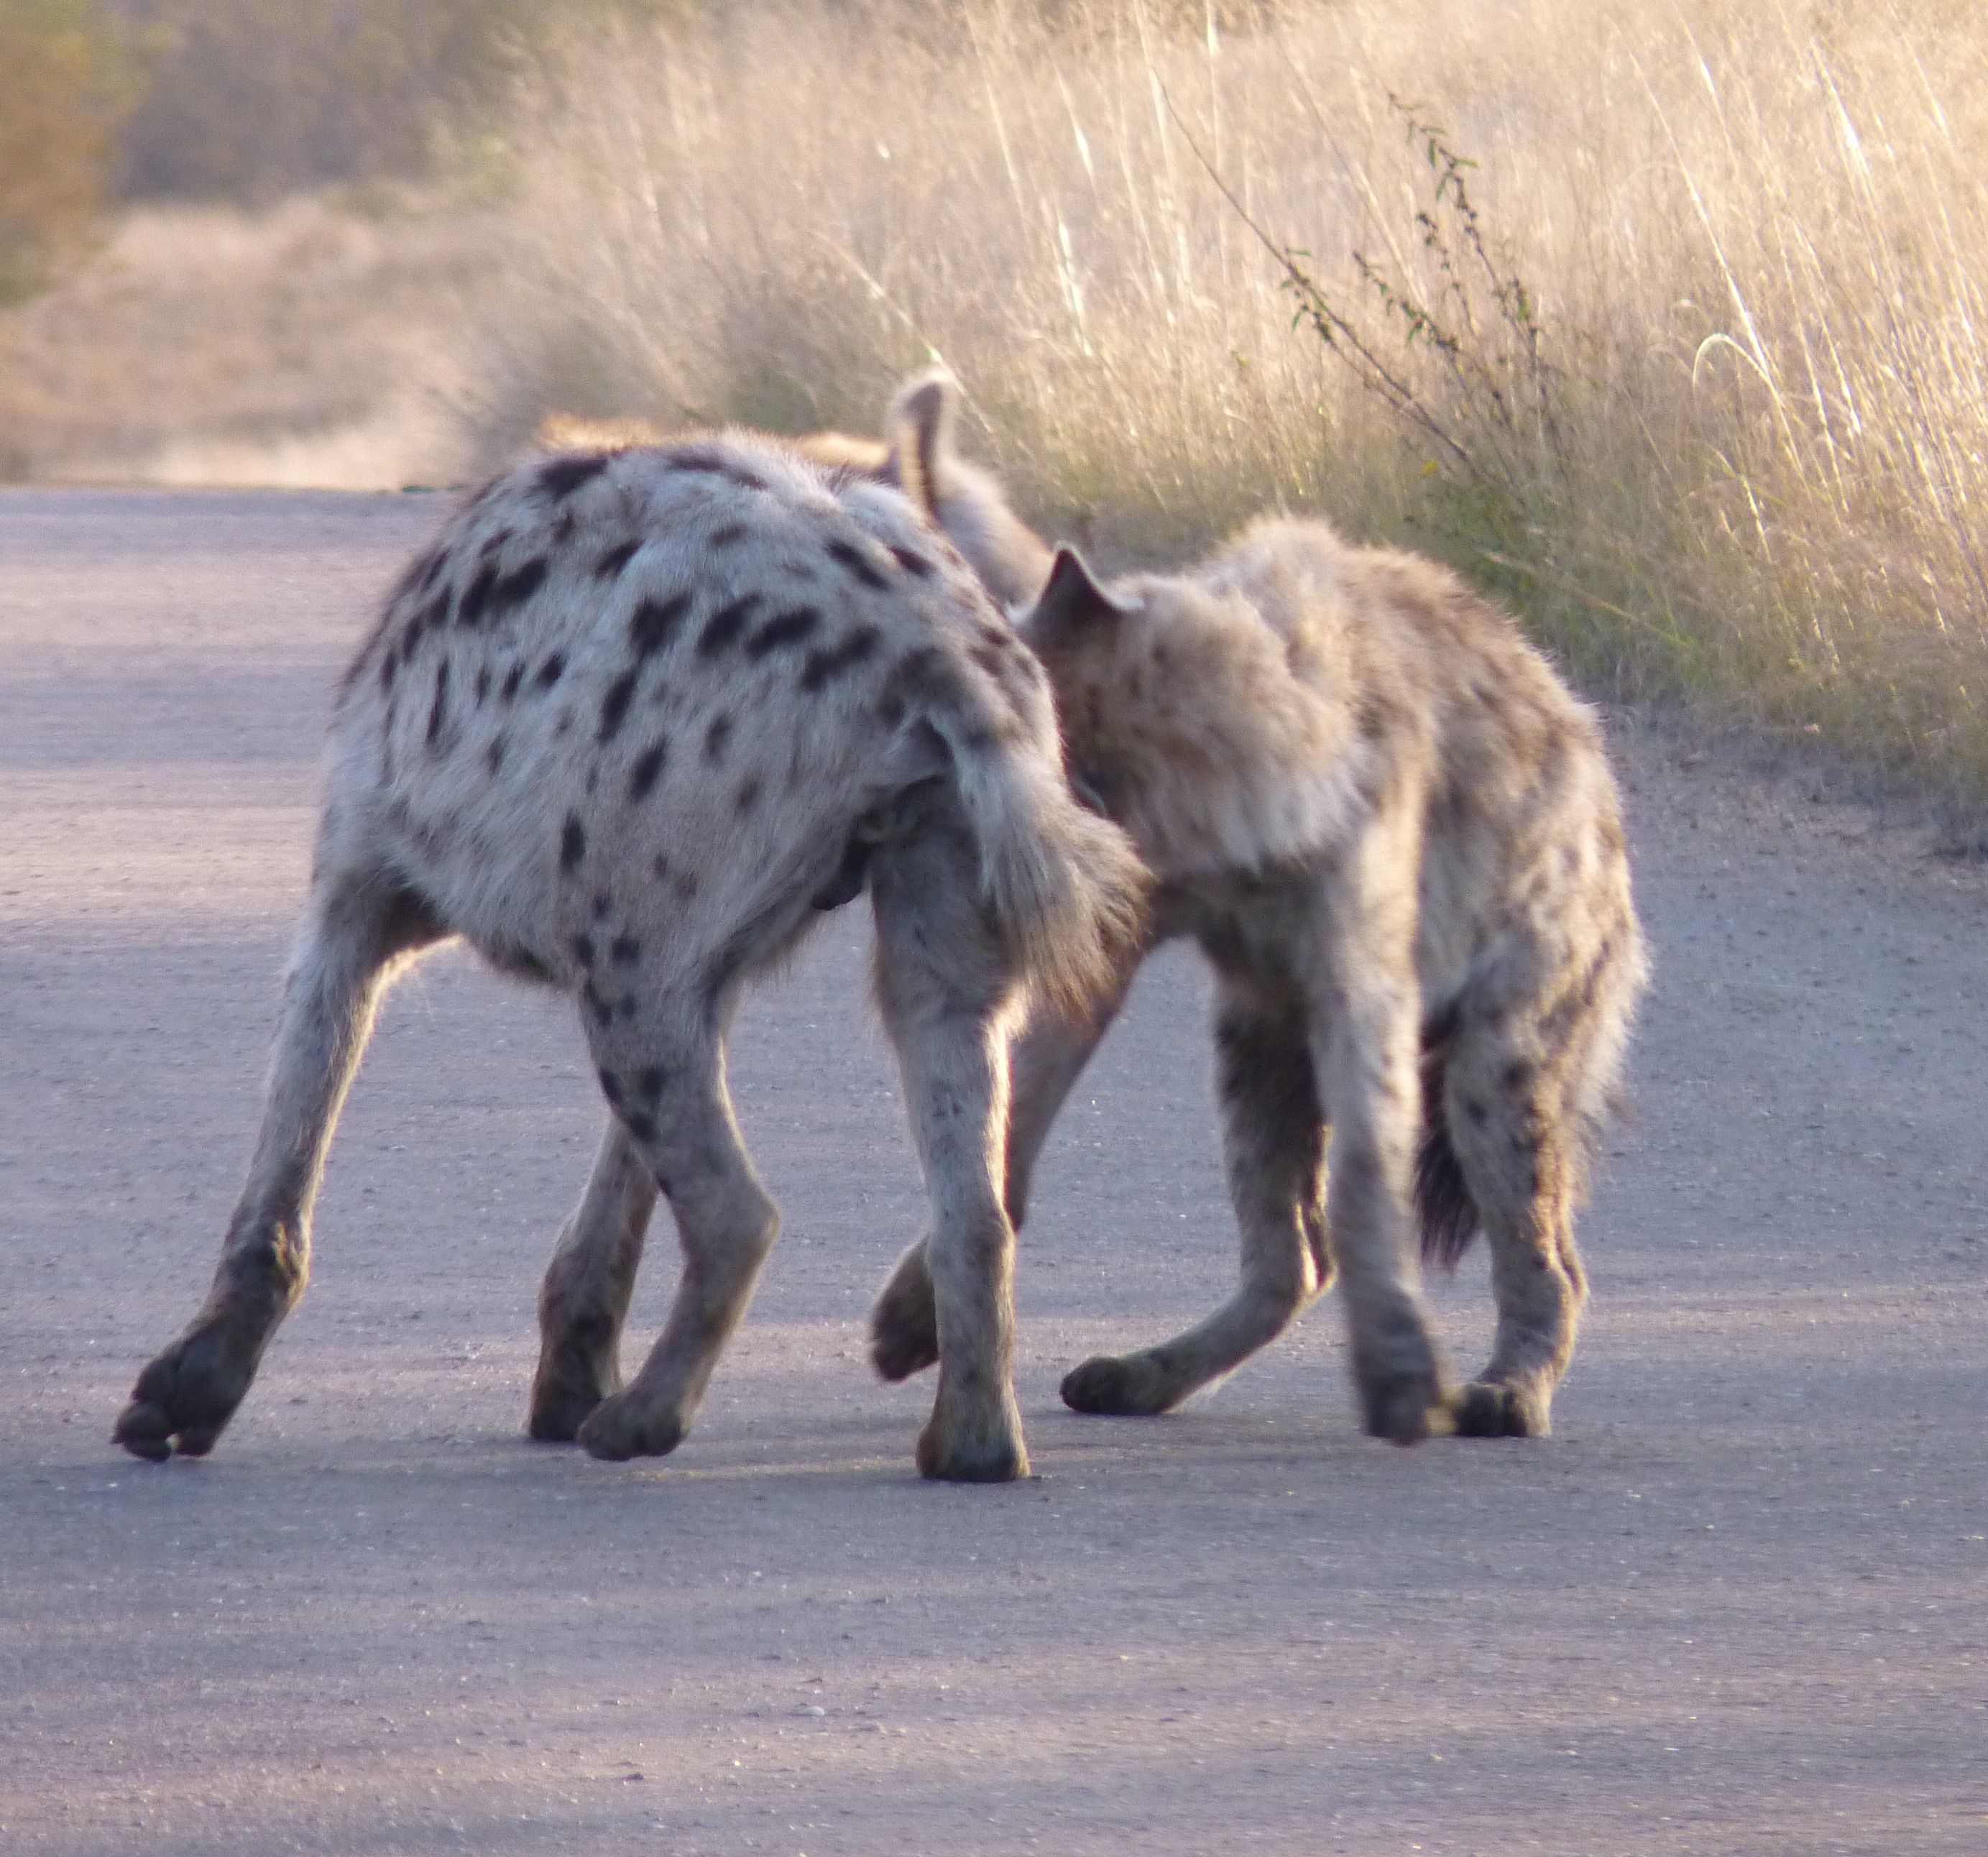hyena: (99, 384, 1052, 1513), (810, 503, 1646, 1431)
